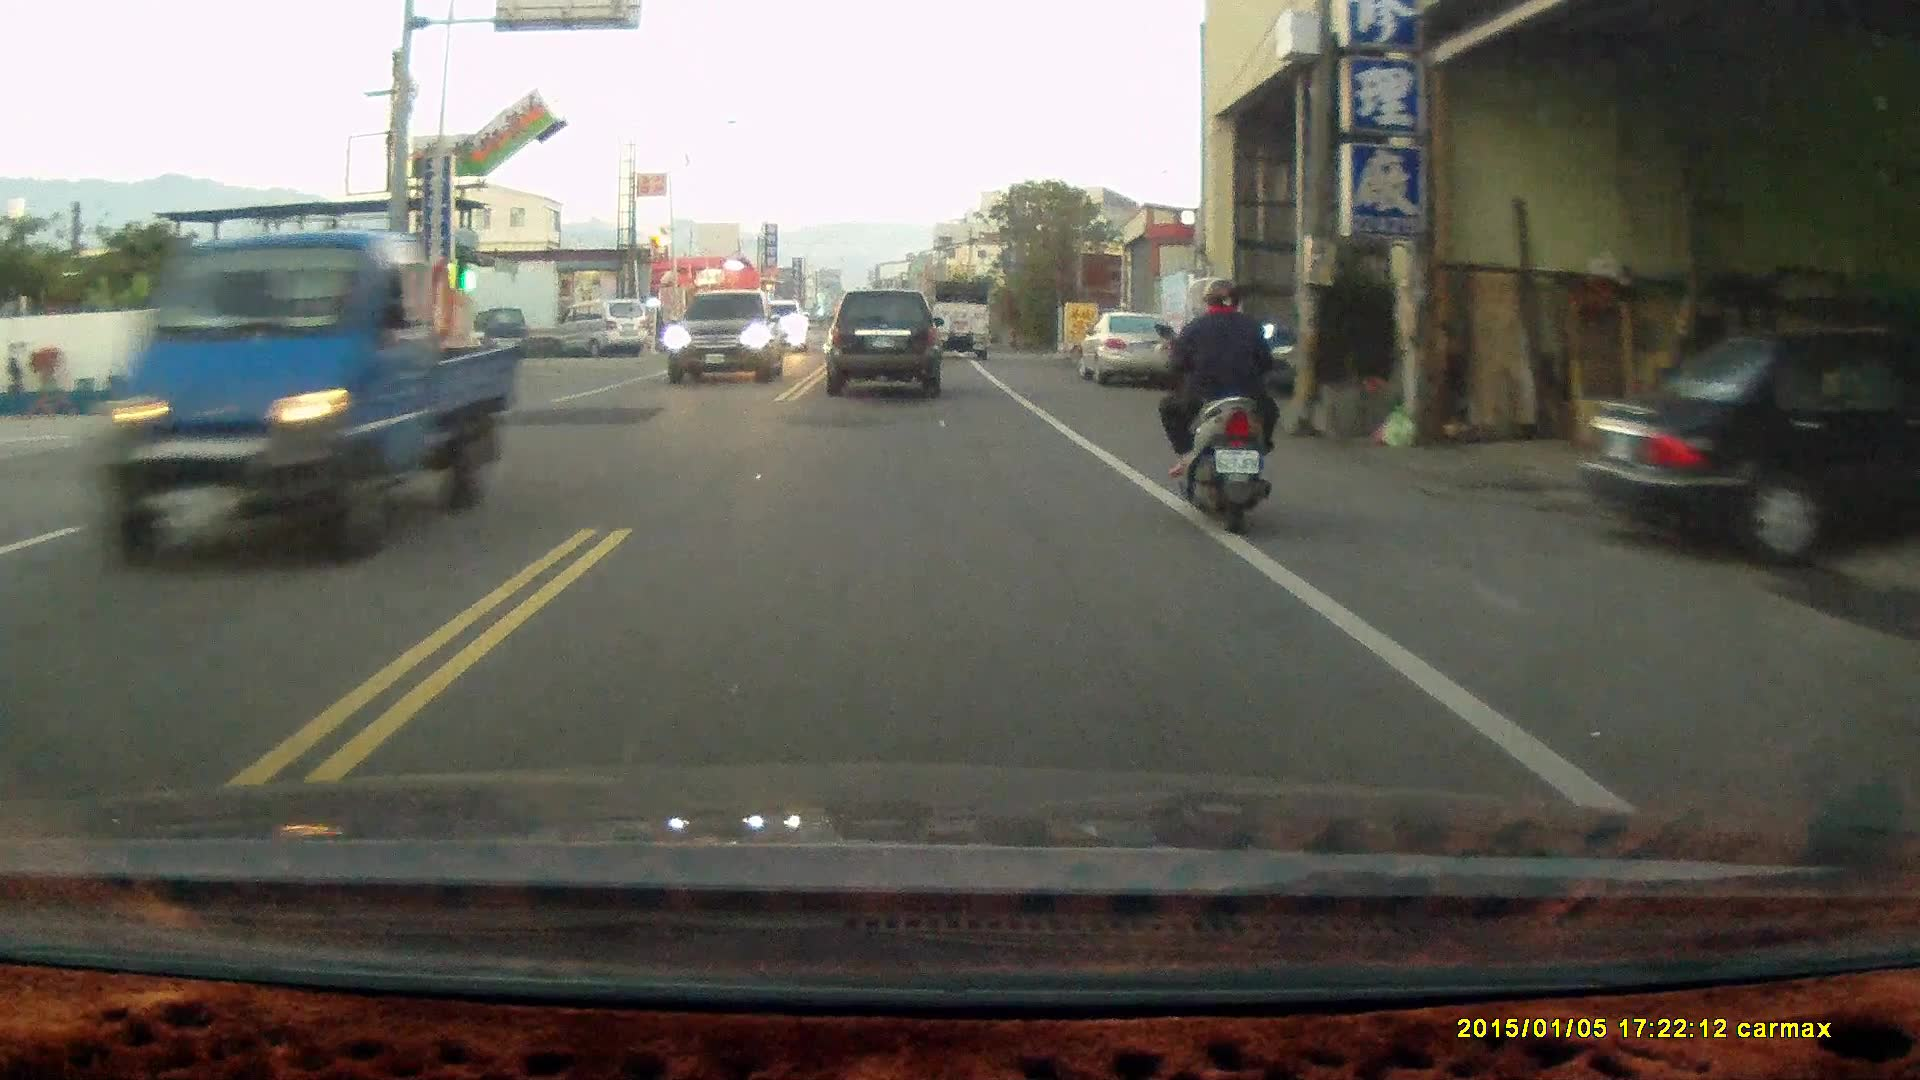rider: (1151, 270, 1280, 534)
vehicle: (101, 227, 502, 565), (1584, 311, 1920, 573), (827, 289, 943, 399), (665, 287, 790, 386), (1080, 312, 1173, 386), (556, 296, 650, 356), (926, 269, 996, 350)
